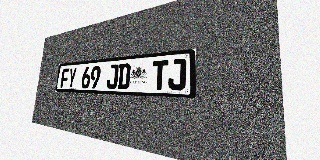6: (81, 66, 92, 88)
9: (89, 66, 101, 89)
D: (117, 63, 131, 89)
F: (60, 68, 70, 88)
J: (168, 58, 186, 91), (106, 64, 119, 89)
T: (151, 60, 168, 90)
Y: (67, 68, 77, 88)
